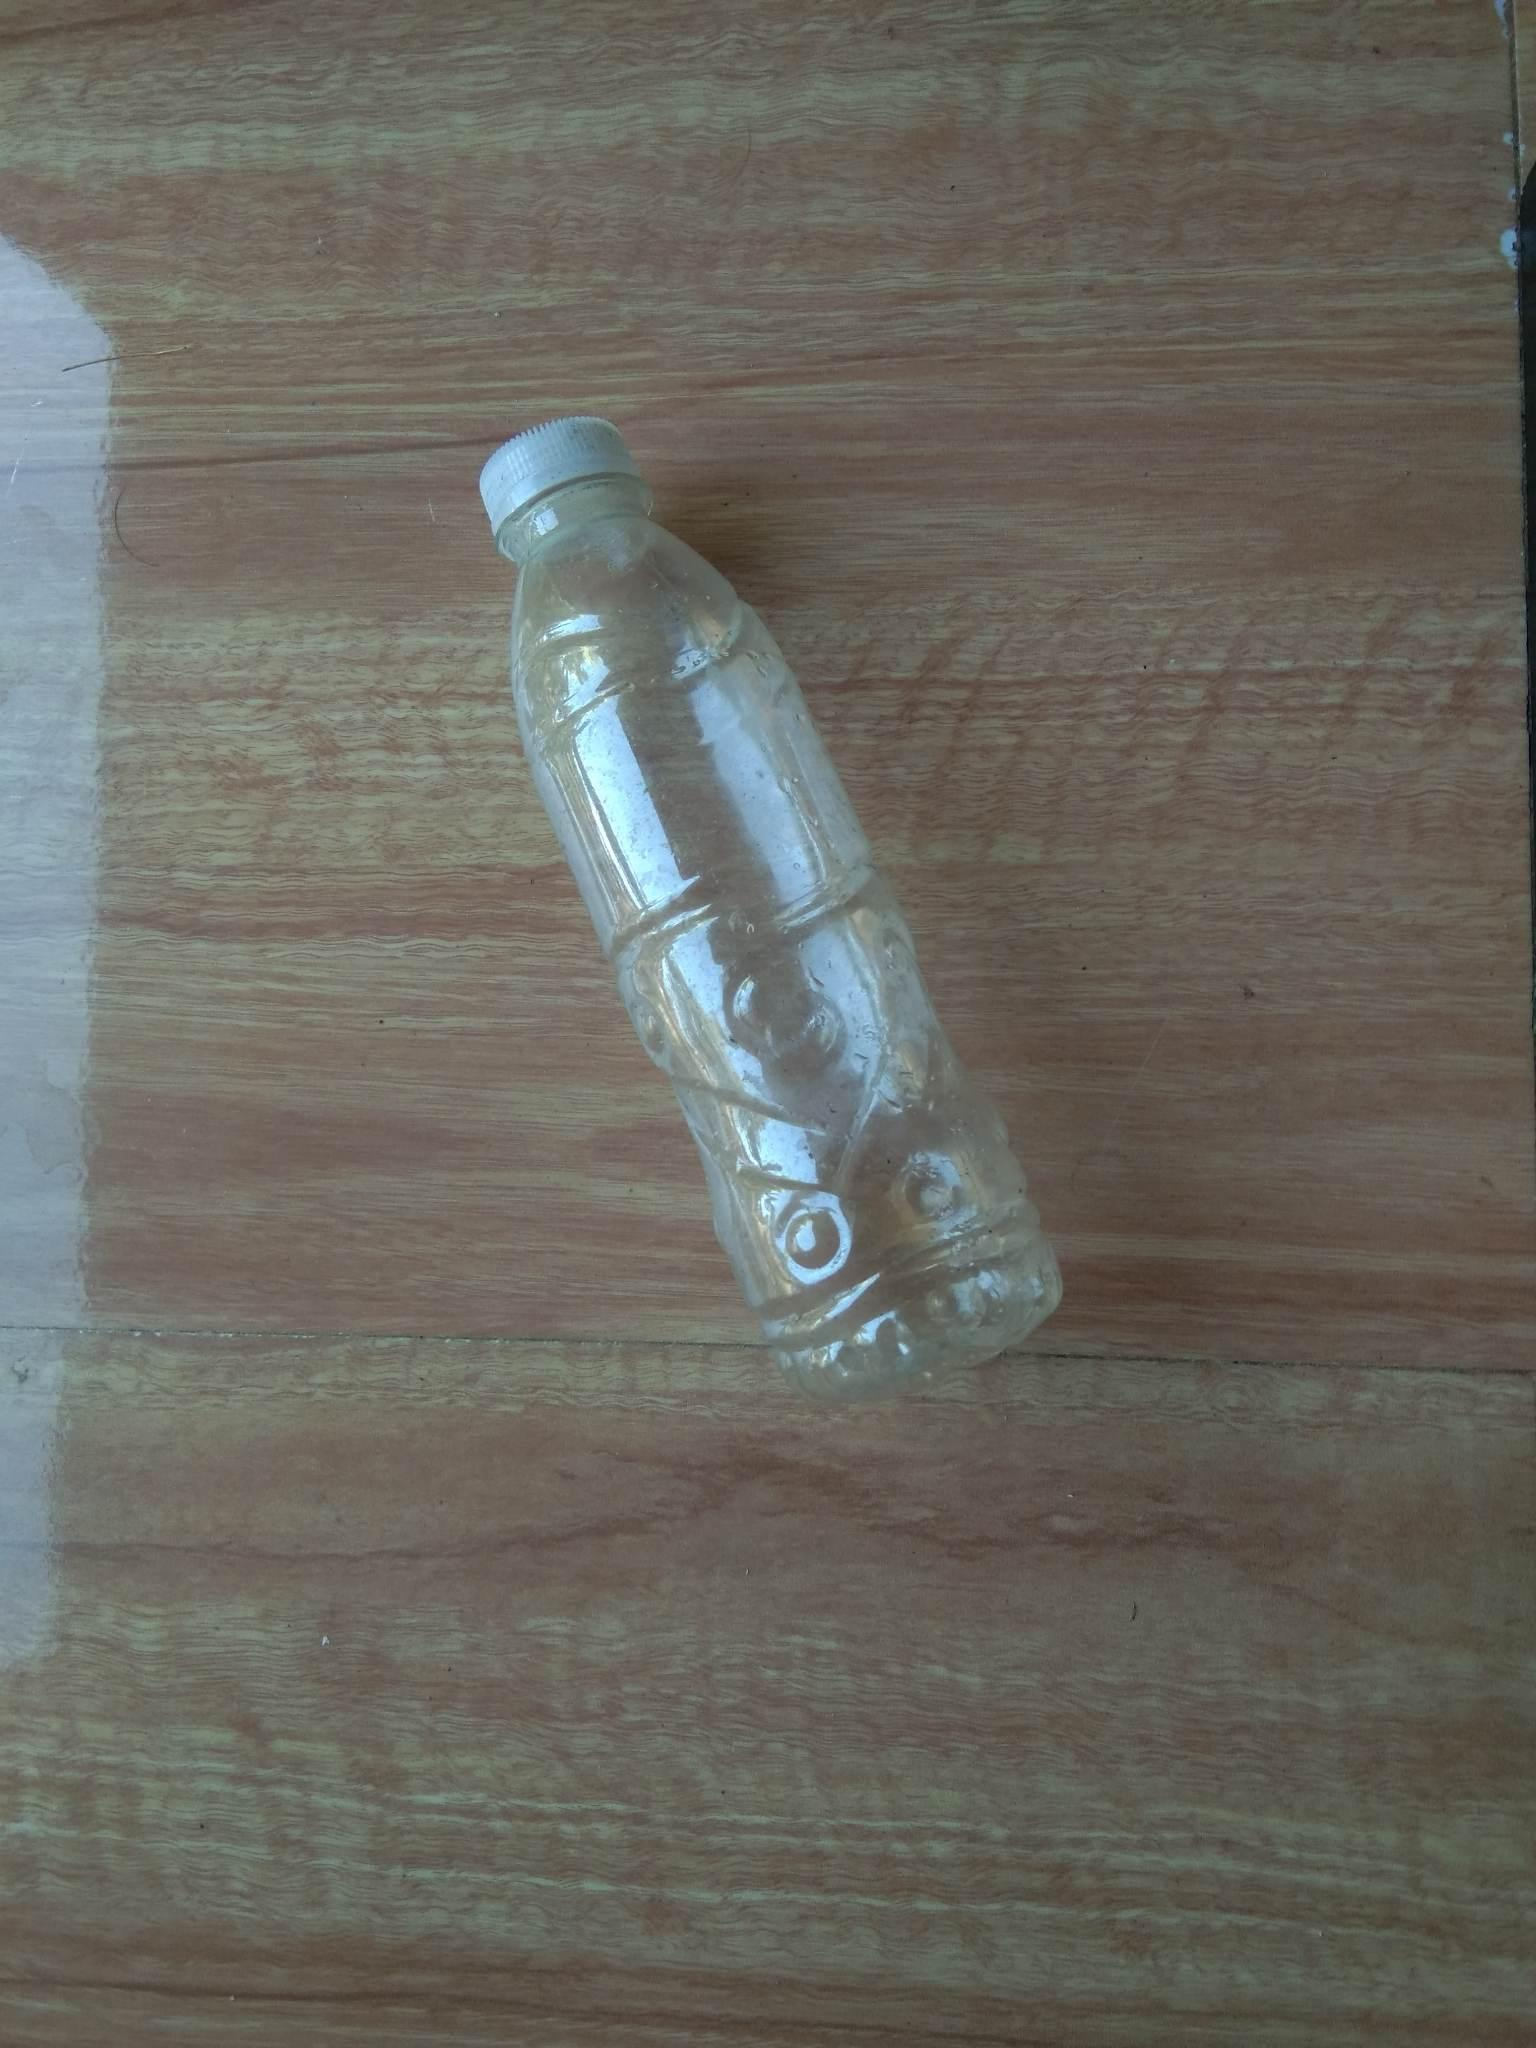plastic: (297, 384, 1083, 1488)
